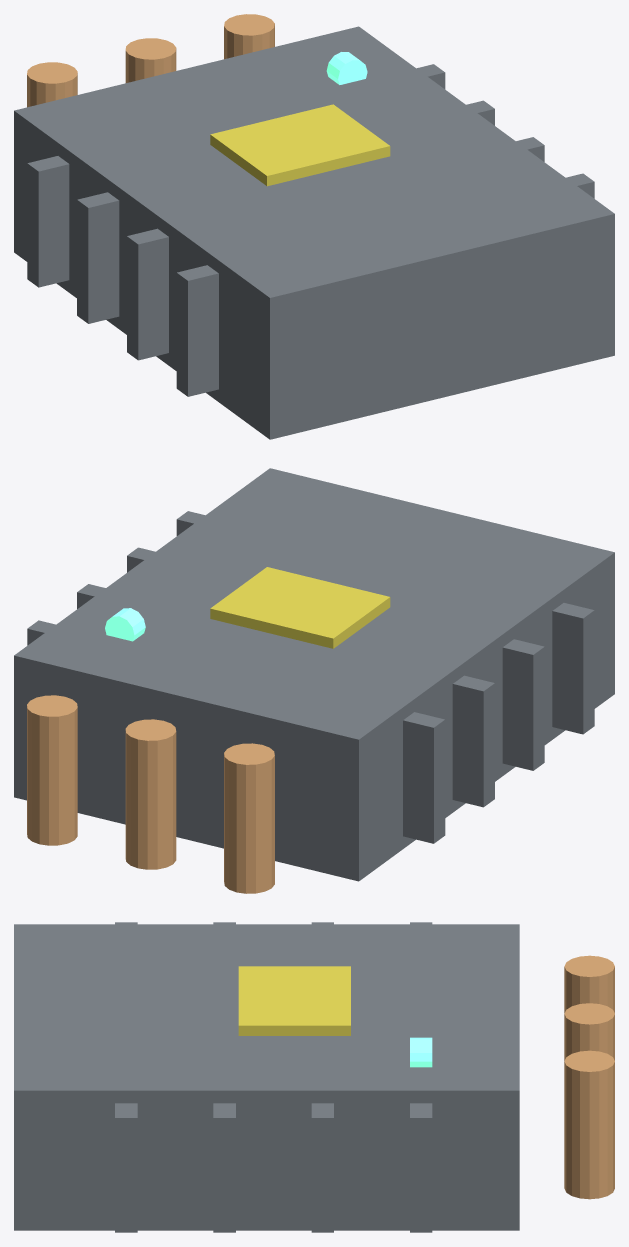
Rendered from prop_wall_transformer.glb.
3 renders of one model, top to bottom at view 1: azimuth 30°, elevation 25°; view 2: azimuth 150°, elevation 25°; view 3: azimuth 270°, elevation 25°, orthographic.
Parts seen in each view (by area): view 1: Cube, Cube.009, Cube.001, Cube.003, Cube.004, Cube.002, Cylinder.001, Cylinder.002, Cylinder, Cylinder.003; view 2: Cube, Cube.009, Cylinder.001, Cylinder, Cylinder.002, Cube.003, Cube.001, Cube.004, Cube.002, Cylinder.003; view 3: Cube, Cube.009, Cylinder.002, Cube.005, Cube.006, Cube.007, Cube.008, Cylinder.001, Cylinder, Cylinder.003.
Boxes of the visible parts, x1,y1,x2,y2 form: Cube: [14, 26, 614, 439]; Cube.009: [210, 104, 390, 186]; Cube.001: [176, 265, 218, 396]; Cube.003: [77, 192, 119, 323]; Cube.004: [27, 156, 69, 287]; Cube.002: [127, 228, 168, 360]; Cylinder.001: [125, 38, 176, 82]; Cylinder.002: [224, 14, 274, 59]; Cylinder: [27, 62, 77, 107]; Cylinder.003: [326, 52, 367, 84]; Cube: [14, 468, 614, 881]; Cube.009: [210, 567, 390, 648]; Cylinder.001: [125, 719, 176, 869]; Cylinder: [224, 743, 274, 893]; Cylinder.002: [27, 695, 77, 845]; Cube.003: [452, 675, 494, 807]; Cube.001: [552, 603, 594, 734]; Cube.004: [403, 712, 445, 843]; Cube.002: [502, 639, 544, 770]; Cylinder.003: [105, 608, 145, 641]; Cube: [14, 924, 519, 1230]; Cube.009: [238, 966, 350, 1035]; Cylinder.002: [564, 1050, 614, 1199]; Cube.005: [115, 1103, 137, 1232]; Cube.006: [213, 1103, 235, 1232]; Cube.007: [311, 1103, 333, 1232]; Cube.008: [410, 1103, 432, 1232]; Cylinder.001: [564, 1003, 614, 1060]; Cylinder: [564, 955, 614, 1013]; Cylinder.003: [410, 1037, 432, 1067].
Bounding box in the file's own units: 1.65 × 0.635 × 2.14.
